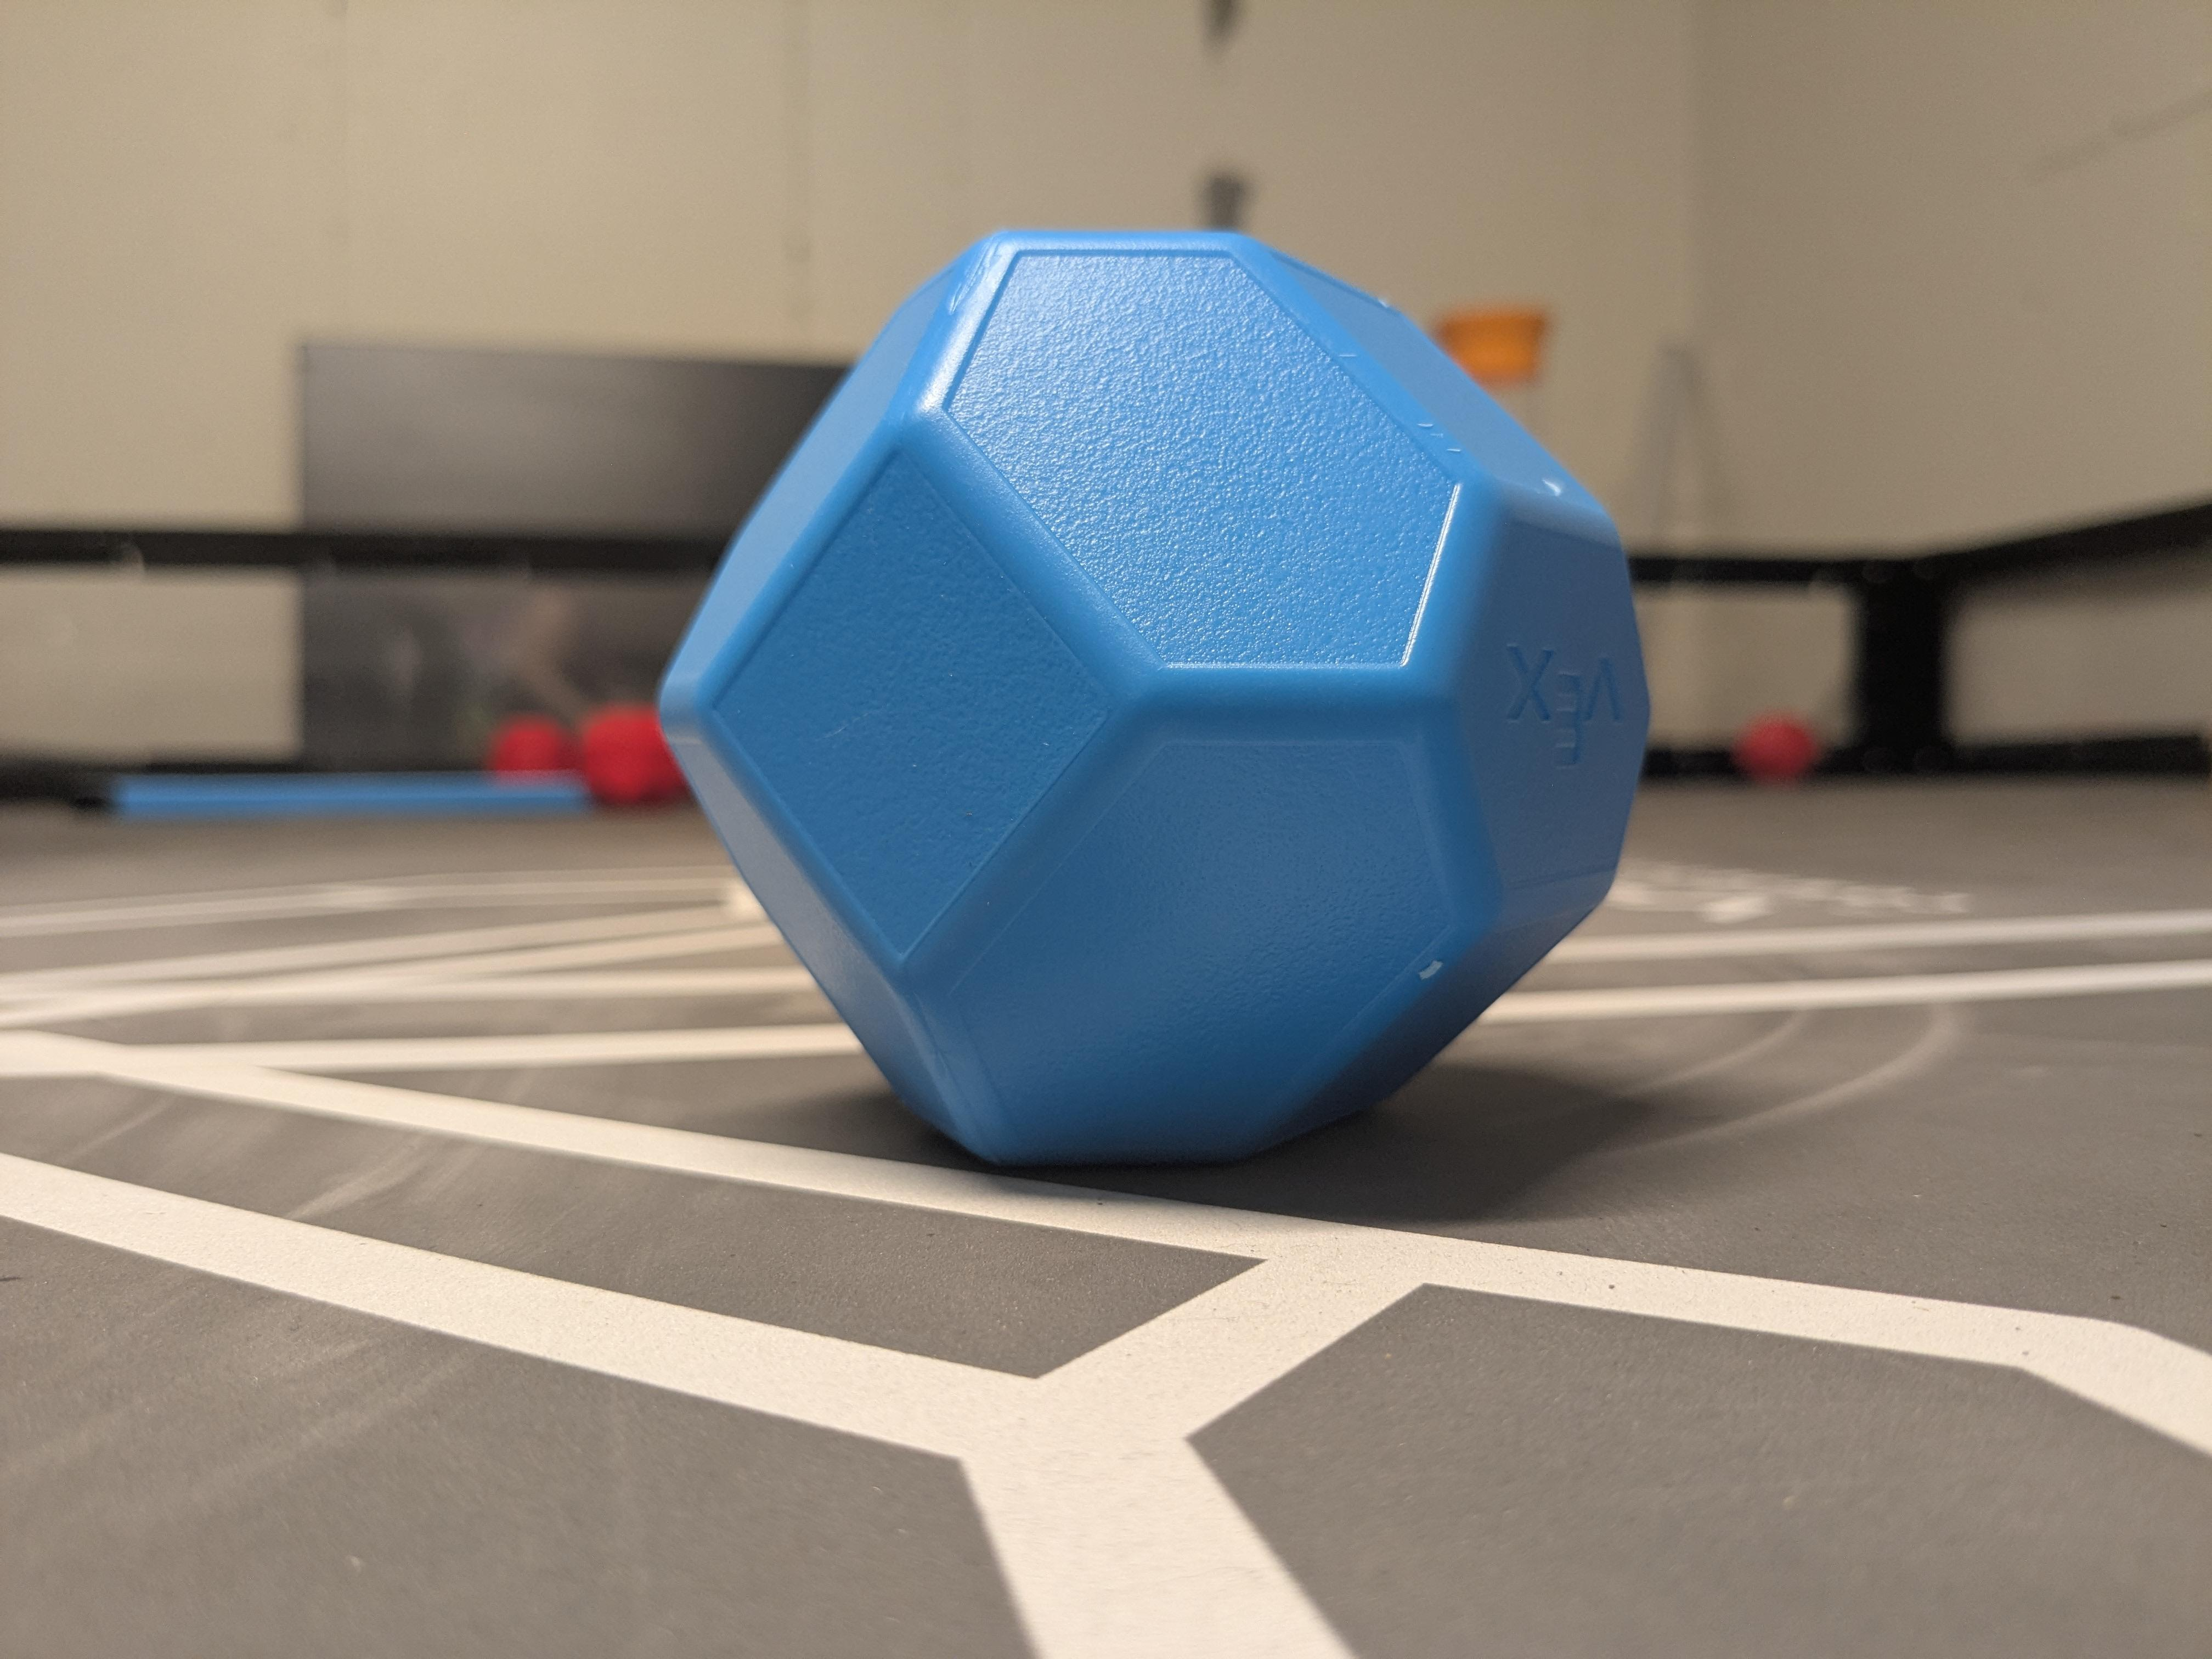Vex-Pieces-BLUE: (671, 228, 1630, 1180)
